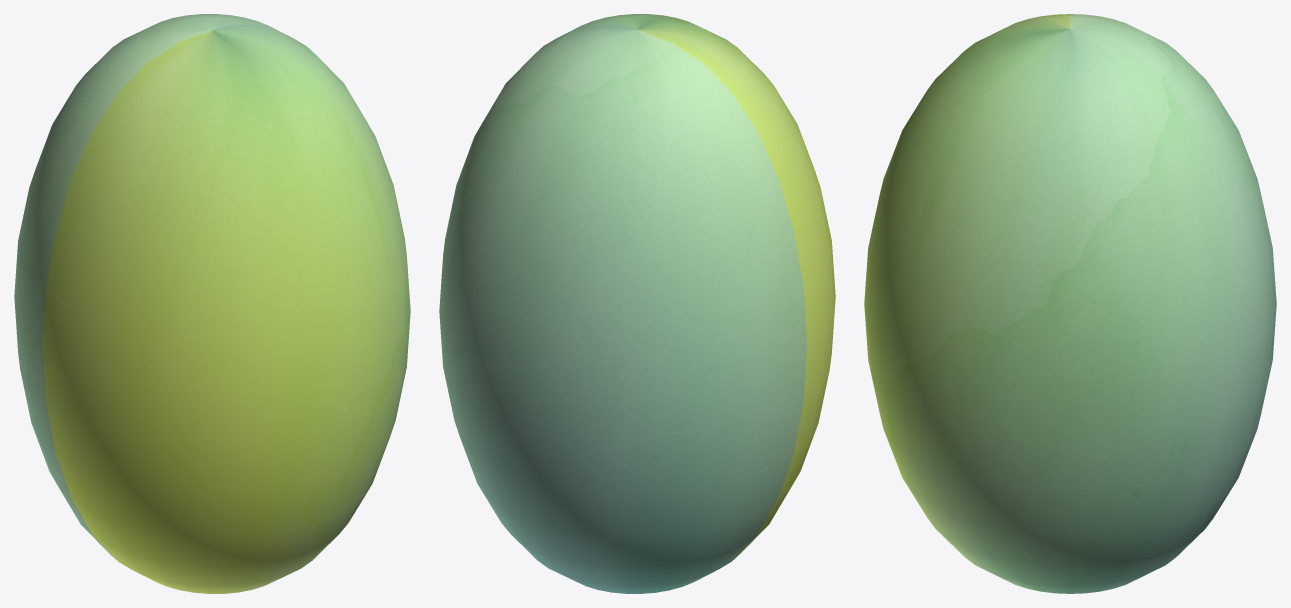
The model's file is ball_frame3.obj.
The picture shows the model from 3 angles, left to right: view 1: azimuth 30°, elevation 25°; view 2: azimuth 150°, elevation 25°; view 3: azimuth 270°, elevation 25°; orthographic projection.
Visible parts, largest first — view 1: Sphere; view 2: Sphere; view 3: Sphere.
Boxes of the visible parts, x1,y1,x2,y2 form: Sphere: [14, 14, 410, 593]; Sphere: [439, 14, 835, 593]; Sphere: [864, 14, 1276, 593].
Size of the model in its own units: 1.91 by 2.94 by 2.
Materials: 1 (1 with a texture image).
